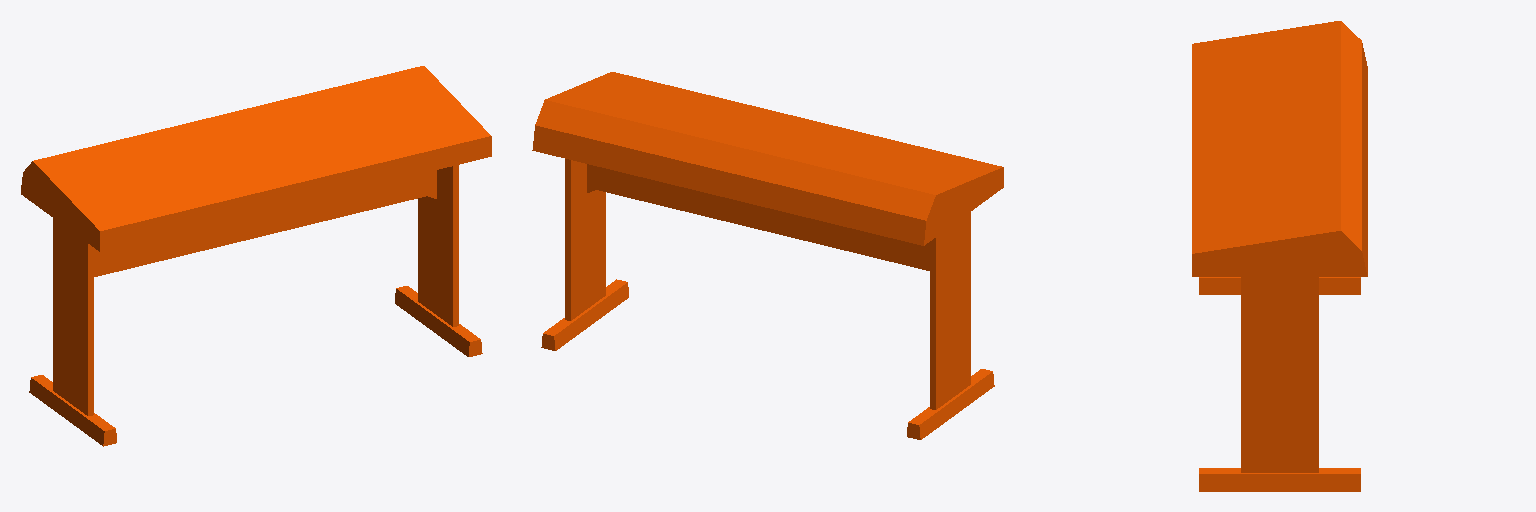
The robot description file, URDF, robot "Piano_b7b54152e58fdee6bb4d99f9abe880cc":
<?xml version="1.0" ?>
<robot name="Piano_b7b54152e58fdee6bb4d99f9abe880cc">
   <material name="obj_color">
      <color rgba="1.0 0.423529411765 0.0392156862745 1.0"/>
   </material>
   <link name="top">
      <inertial>
         <origin rpy="0.004736173730040229 0.01205119612915375 0.01424915167385005" xyz="0.0003005000000000009 -0.000585122834935511 -0.03012079588128577"/>
         <mass value="2.400859081133539"/>
         <inertia ixx="0.004736173730040229" ixy="-1.445467101163445e-19" ixz="-1.913103320712642e-19" iyy="0.01424751659539755" iyz="-5.992625692555187e-05" izz="0.01205283120760623"/>
      </inertial>
      <visual>
         <origin rpy="0 0 0" xyz="0 0 0"/>
         <geometry>
            <mesh filename="top_watertight_tiny.stl" scale="1 1 1"/>
         </geometry>
         <material name="obj_color"/>
      </visual>
      <collision>
         <origin rpy="0 0 0" xyz="0 0 0"/>
         <geometry>
            <mesh filename="top_watertight_tiny.obj" scale="1 1 1"/>
         </geometry>
      </collision>
   </link>
   <link name="bottom">
      <inertial>
         <origin rpy="1.633333333199431e-08 1.633333333199431e-08 1.633333333362855e-08" xyz="0.3464080000000008 0.3464080000000008 0.3464080000000008"/>
         <mass value="0.0009800000000000017"/>
         <inertia ixx="1.633333333253906e-08" ixy="5.447480642029219e-19" ixz="5.447480642029219e-19" iyy="1.633333333253906e-08" iyz="5.447480642029219e-19" izz="1.633333333253906e-08"/>
      </inertial>
      <visual>
         <origin rpy="0 0 0" xyz="0 0 0"/>
         <geometry>
            <mesh filename="bottom_watertight_tiny.stl" scale="1 1 1"/>
         </geometry>
         <material name="obj_color"/>
      </visual>
   </link>
   <joint name="rotation" type="revolute">
      <origin xyz="0 0 0"/>
      <axis xyz="0 0 -1"/>
      <parent link="bottom"/>
      <child link="top"/>
      <dynamics damping="1.0" friction="1.0"/>
      <limit effort="0.1" velocity="0.1" lower="0" upper="0.001"/>
   </joint>
</robot>

--- Render facts (derived) ---
The picture shows the robot from 3 angles, left to right: view 1: azimuth 30°, elevation 25°; view 2: azimuth 150°, elevation 25°; view 3: azimuth 270°, elevation 25°; orthographic projection.
Robot: Piano_b7b54152e58fdee6bb4d99f9abe880cc — 2 links, 1 joints (1 revolute); root link bottom; default pose: all joints at 0.
Links seen in each view (by area): view 1: top; view 2: top; view 3: top.
Boxes of the visible links, left/top/right/bottom form: top: left=21, top=66, right=491, bottom=446; top: left=532, top=72, right=1003, bottom=439; top: left=1192, top=21, right=1367, bottom=491.
Bounding box of the posed robot: 0.2352 × 0.0829 × 0.1378 m (x, y, z).
1 mesh visuals loaded from 2 distinct referenced files (1 binary STL); not drawn: 1 (reference not matched to a file when rendering).
